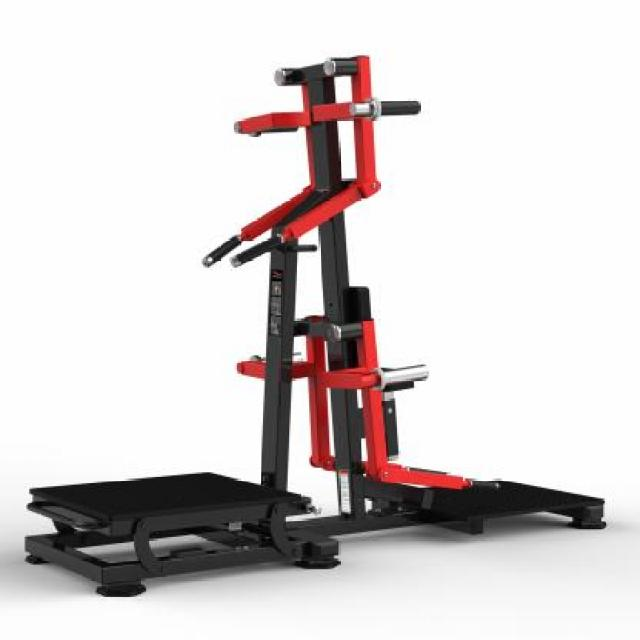lateral raises machine: (32, 54, 611, 600)
